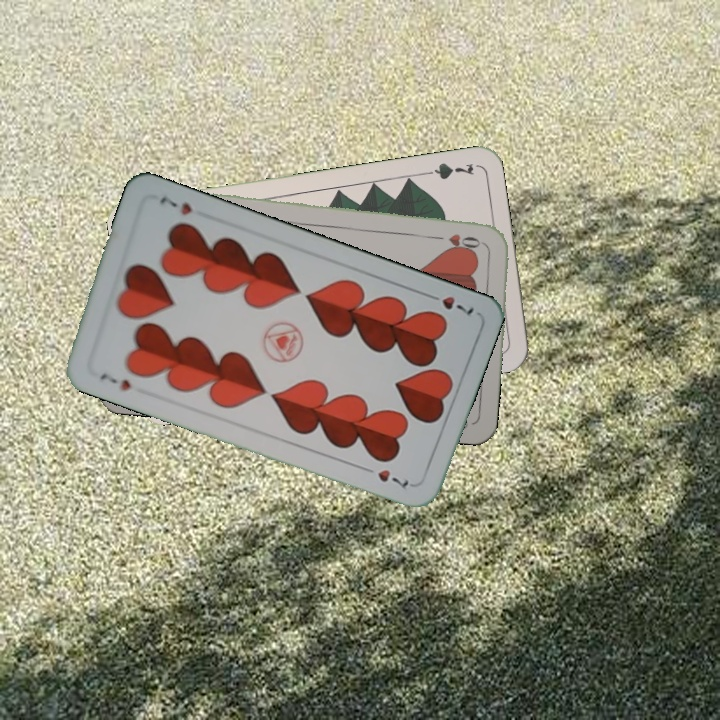G7: (417, 159, 477, 182)
H7: (421, 288, 477, 318), (96, 368, 134, 394)
HO: (427, 229, 486, 250)
